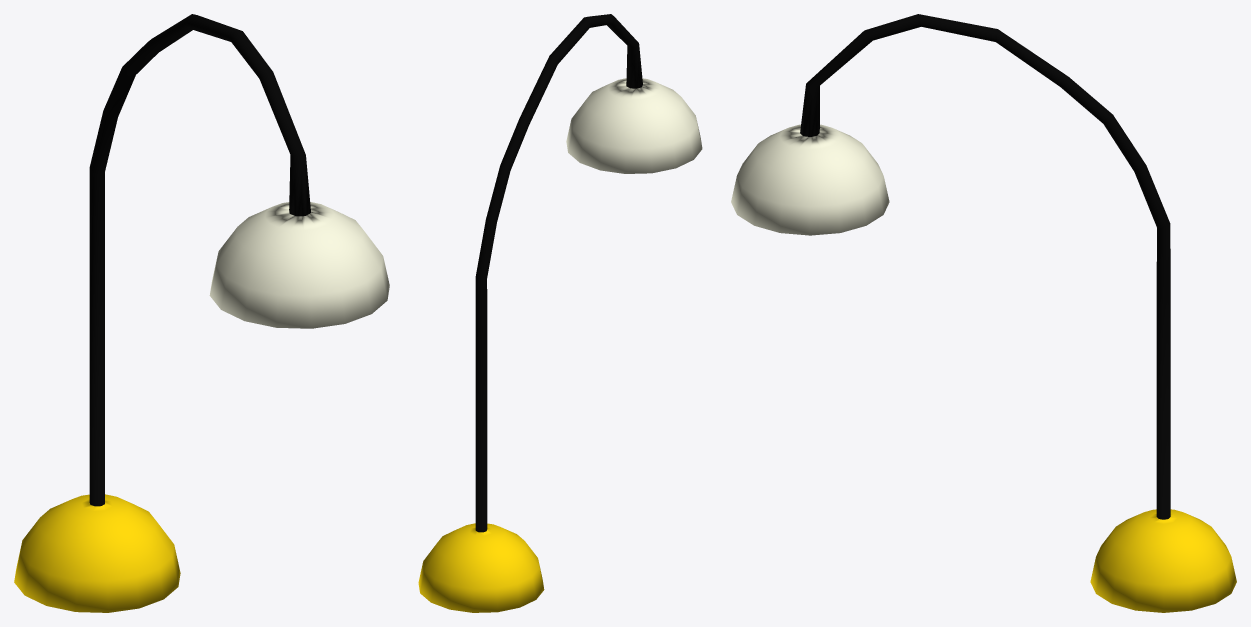
Rendered from Luminaria.fbx.
The picture shows the model from 3 angles, left to right: view 1: azimuth 30°, elevation 25°; view 2: azimuth 150°, elevation 25°; view 3: azimuth 270°, elevation 25°; orthographic projection. The views are drawn at different scales.
Visible parts, largest first — view 1: Sphere; view 2: Sphere; view 3: Sphere.
Part boxes in pixels (<box>): Sphere: <box>14,14,389,612</box>; Sphere: <box>418,14,702,612</box>; Sphere: <box>731,14,1236,612</box>.
Size of the model in its own units: 108 by 427 by 345.
